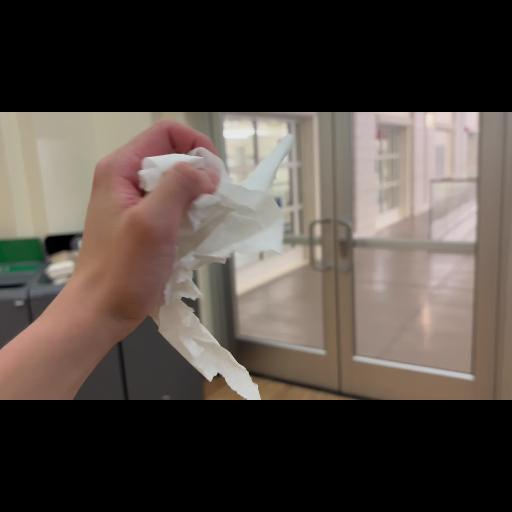napkin: (120, 134, 296, 400)
